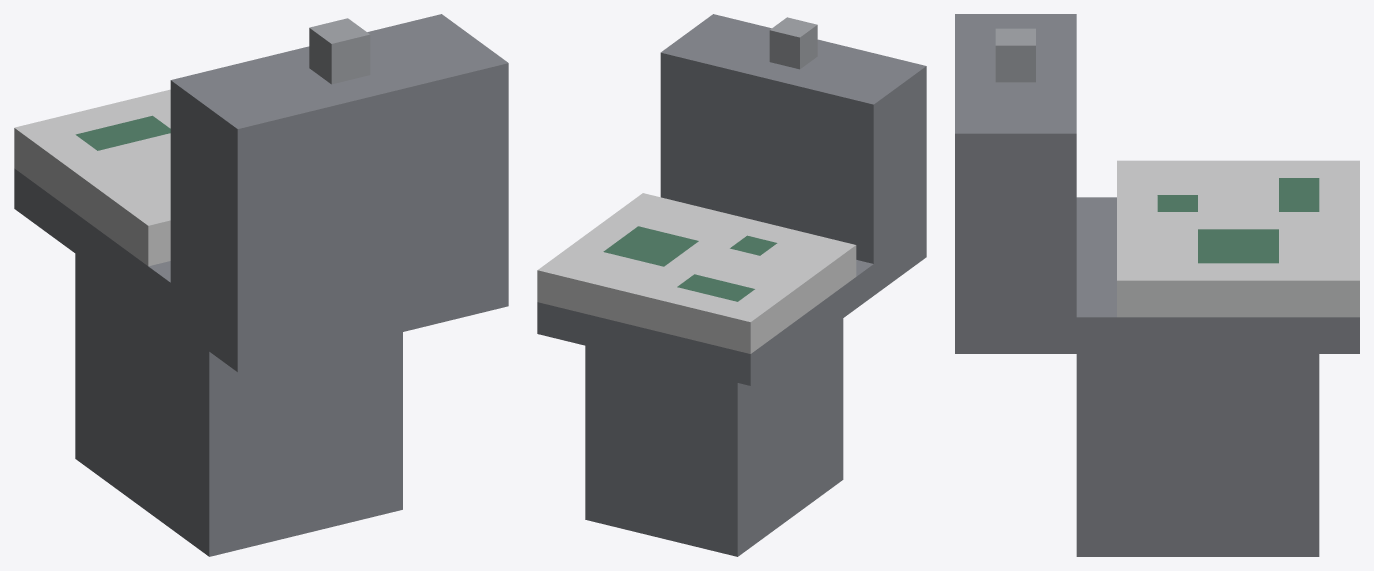
3 views of the same model, side by side, from view 1: azimuth 30°, elevation 25°; view 2: azimuth 150°, elevation 25°; view 3: azimuth 270°, elevation 25° (orthographic). The views are drawn at different scales.
Parts seen in each view (by area): view 1: main; view 2: main; view 3: main.
Boxes of the visible parts, x1,y1,x2,y2 form: main: (14, 14, 508, 556); main: (537, 14, 926, 556); main: (955, 14, 1359, 556).
Size of the model in its own units: 0.4375 by 0.8125 by 0.625.
